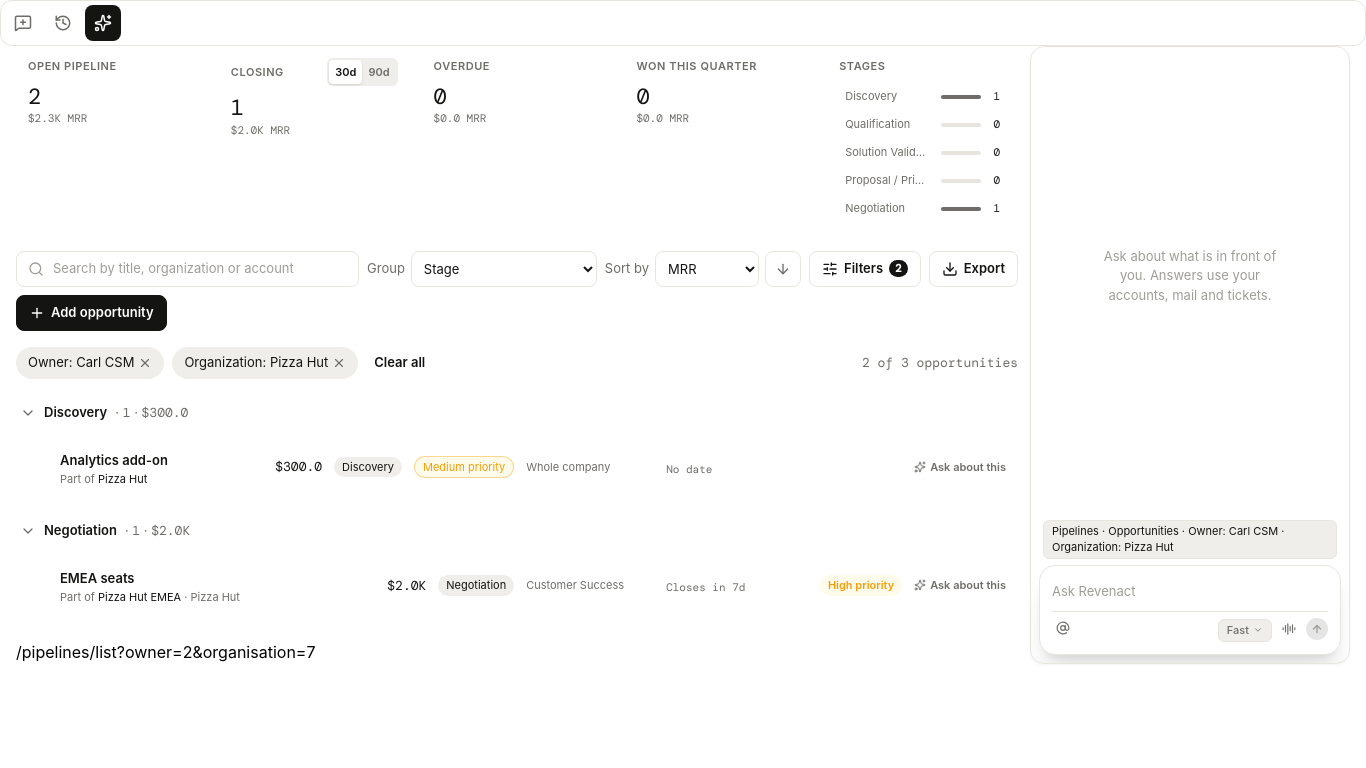
it: Ask Revenact on the Pipelines List and Board › moves the chip with the filters
Expected: the text "Pipelines · Opportunities · Owner: Carl CSM · Organization: Pizza Hut" is shown, [1043,520,1337,558]
Click the button with aria-label "Remove Owner: Carl CSM": click(90, 362) [16,346,164,378]
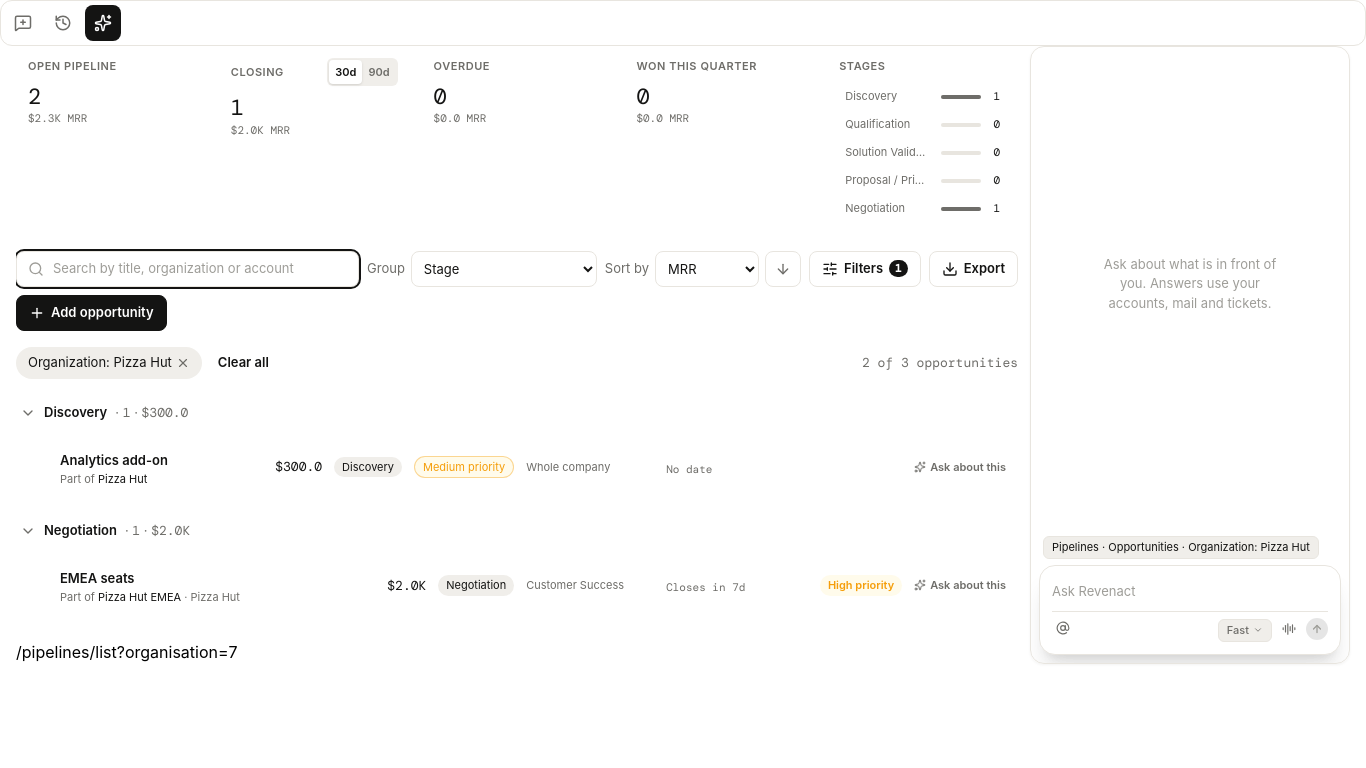
Result: the text "Pipelines · Opportunities · Organization: Pizza Hut" is shown at [1043,536,1319,558]
